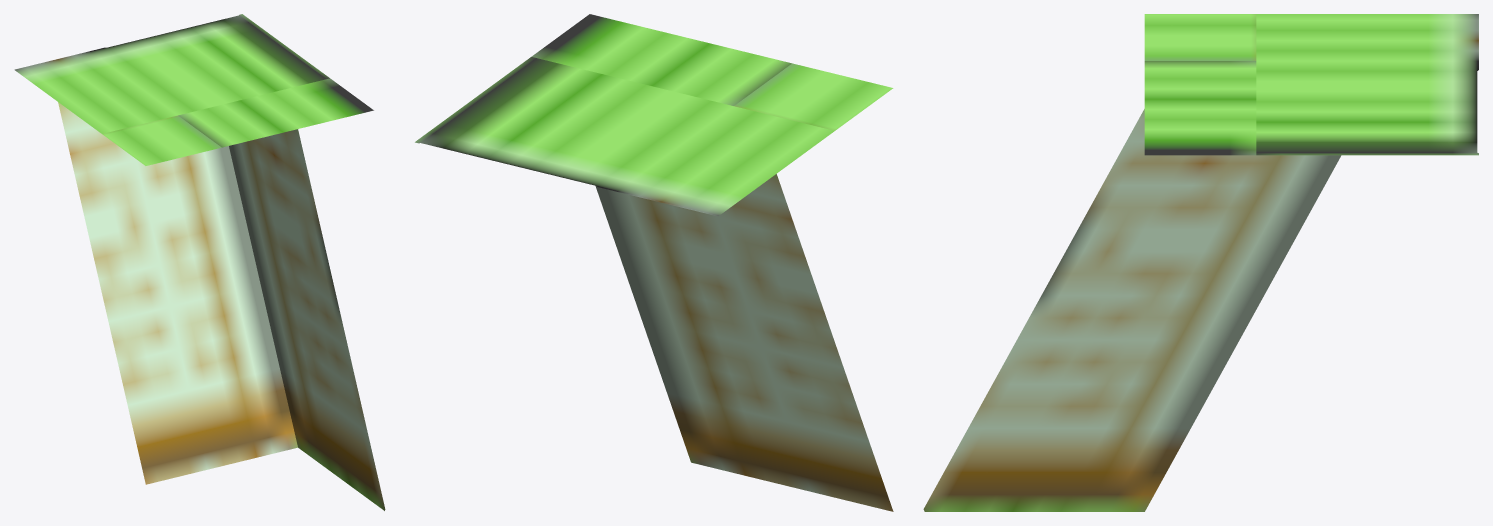
Rendered from tile_lab_3.obj.
3 views of the same model, side by side, from view 1: azimuth 30°, elevation 25°; view 2: azimuth 150°, elevation 25°; view 3: azimuth 270°, elevation 25° (orthographic). The views are drawn at different scales.
Visible parts, largest first — view 1: Default; view 2: Default; view 3: Default.
Boxes of the visible parts, x1,y1,x2,y2 form: Default: (14, 14, 385, 510); Default: (415, 14, 893, 511); Default: (923, 14, 1478, 511).
Bounding box in the file's own units: 1.5 × 2 × 2.5.
